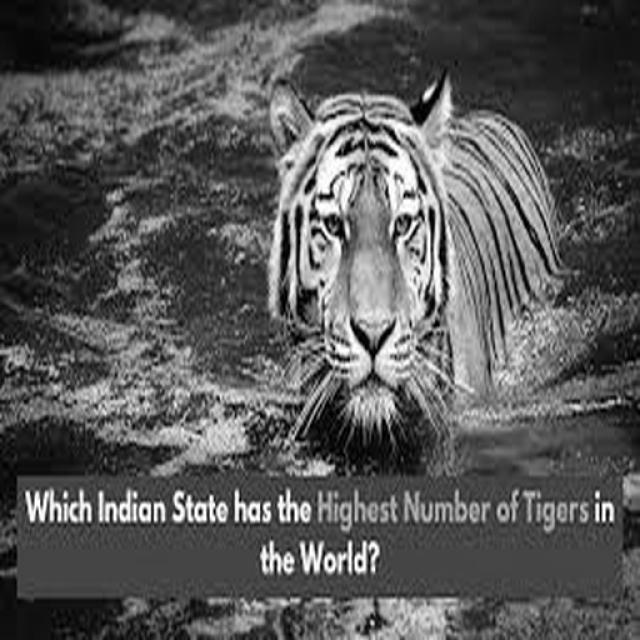Tiger: (238, 55, 536, 465)
